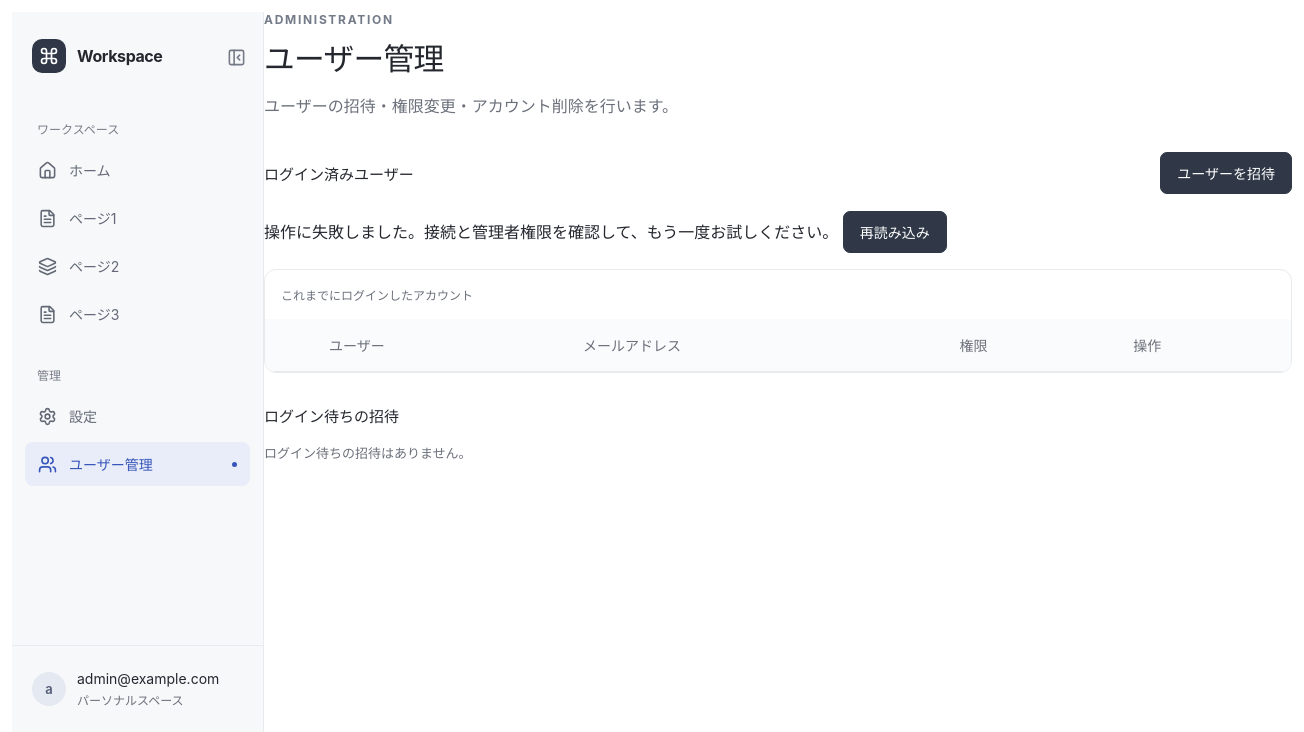
Test: 管理者専用ユーザー管理 › 一覧取得失敗後に再読み込みできる
The width and height of the screenshot is (1304, 732).
Click the button "再読み込み" at (895, 232), box x1=843 y1=211 x2=947 y2=253
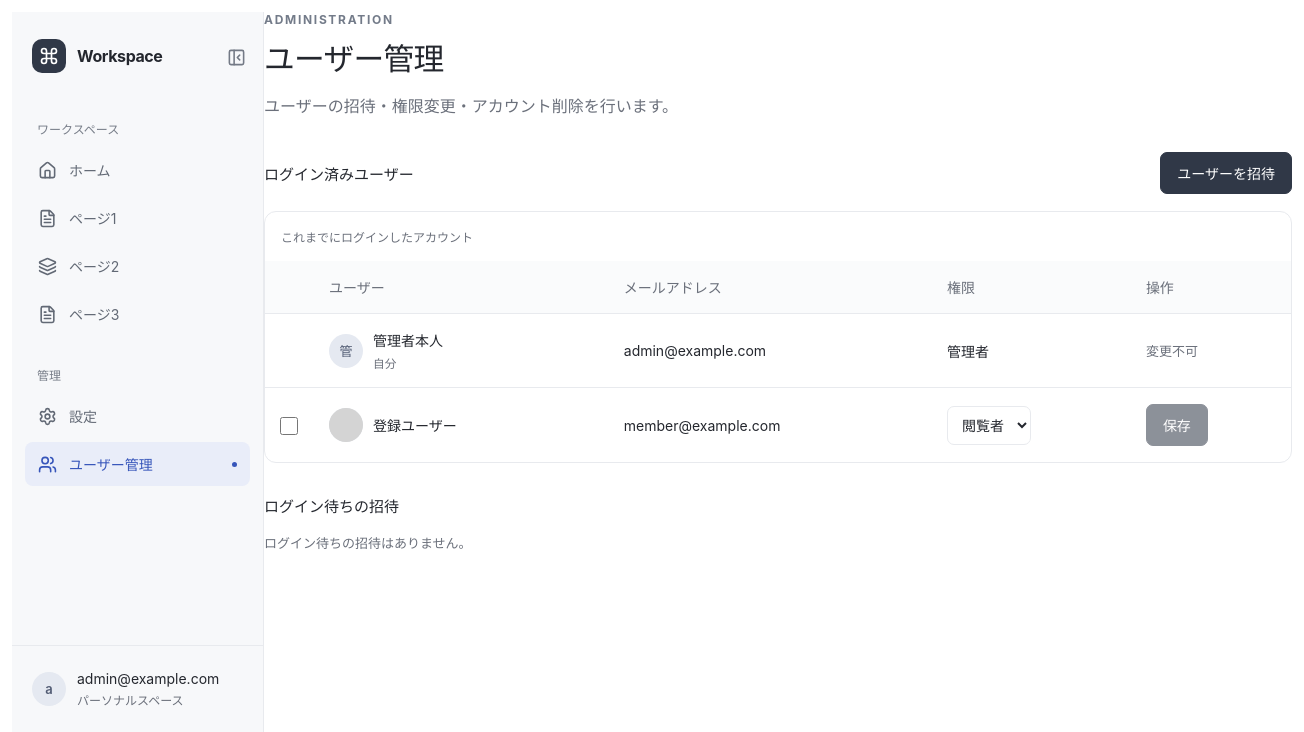
Expected: the text "登録ユーザー" is shown, x1=373 y1=415 x2=457 y2=435
Expected: the message "操作に失敗しました。接続と管理者権限を確認して、もう一度お試しください。 再読み込み" is gone
